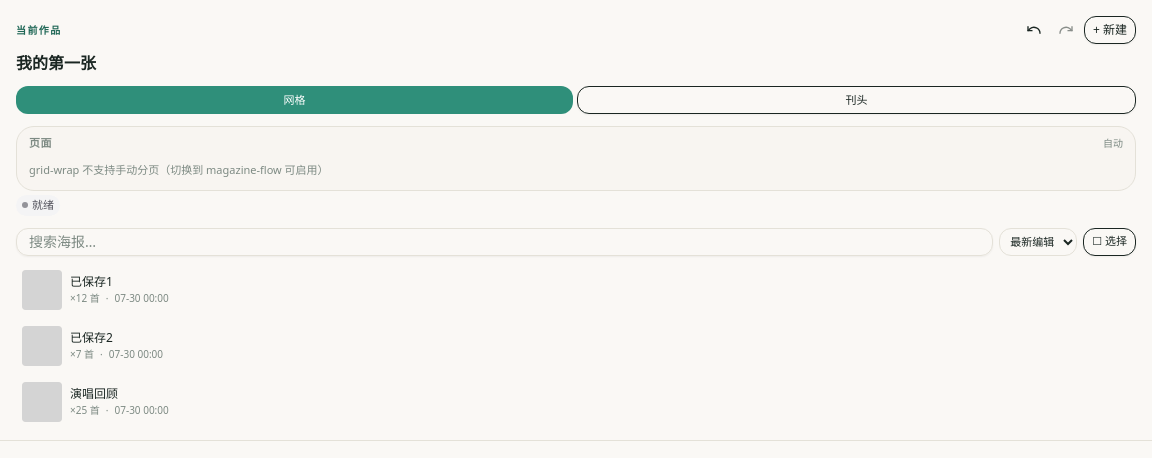
Test case: PostersSidebar - 搜索过滤 › 空结果显示占位提示
Type "不存在的关键词" into the field with test id "poster-search-input". click: (505, 242)
box: [16,228,993,256]
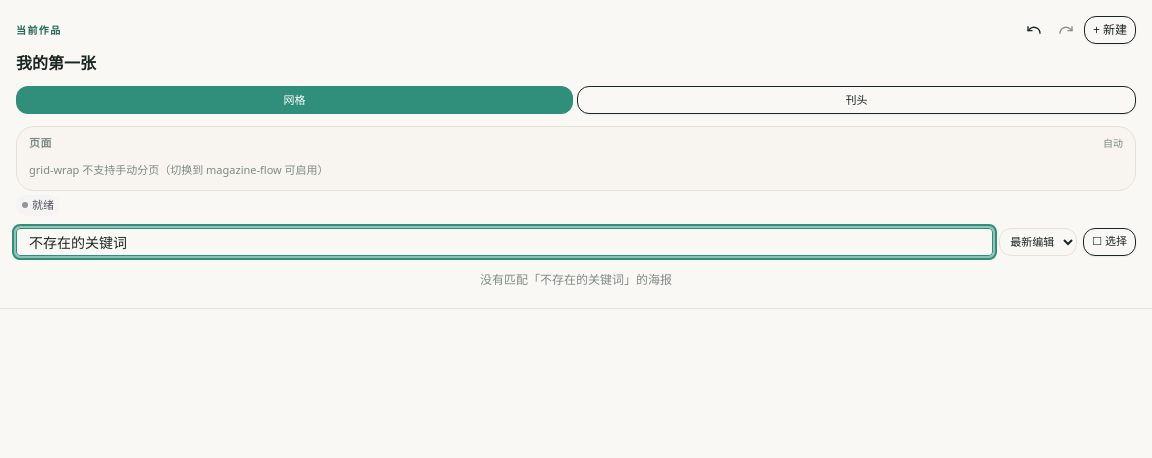
expect the list item with test id "poster-empty" shows "没有匹配": met, box [480,270,672,288]
